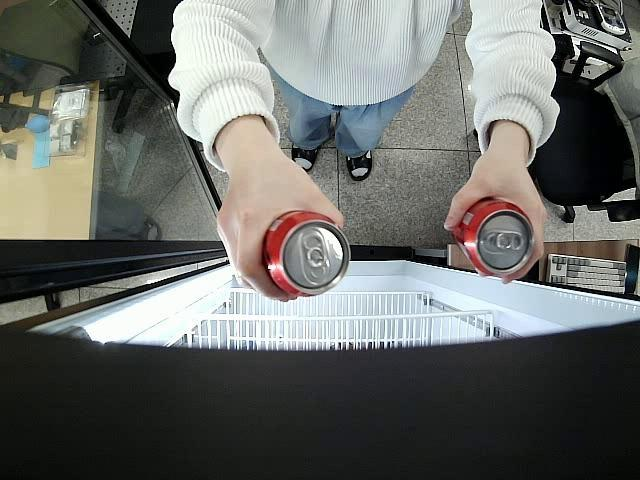11_cocaColaZero: (263, 210, 348, 297), (453, 197, 534, 276)
